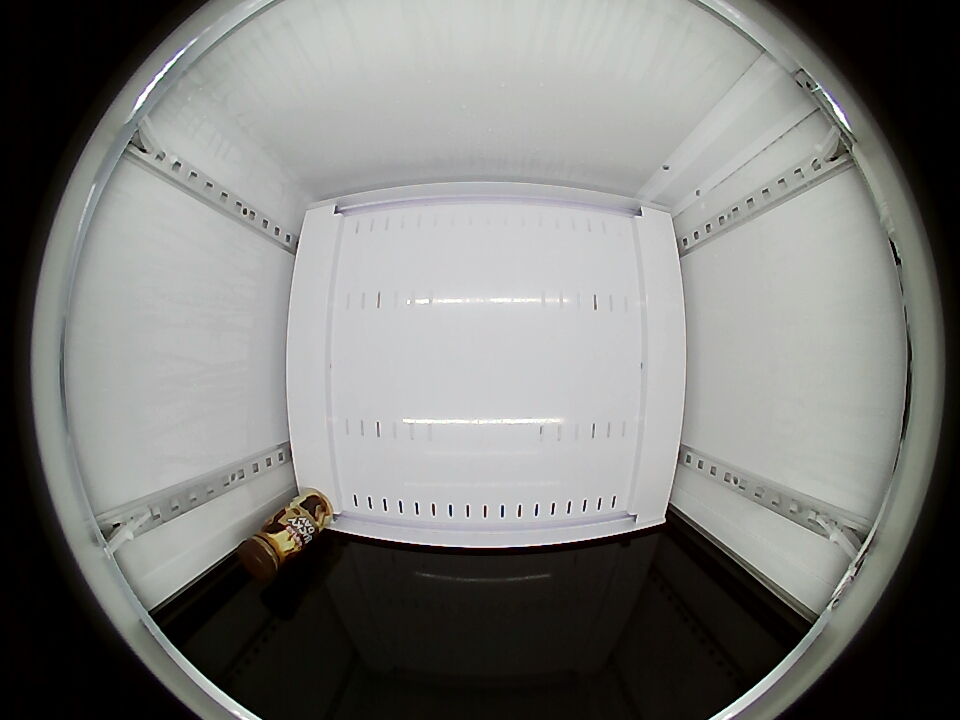lujikafei: (237, 514, 303, 580)
